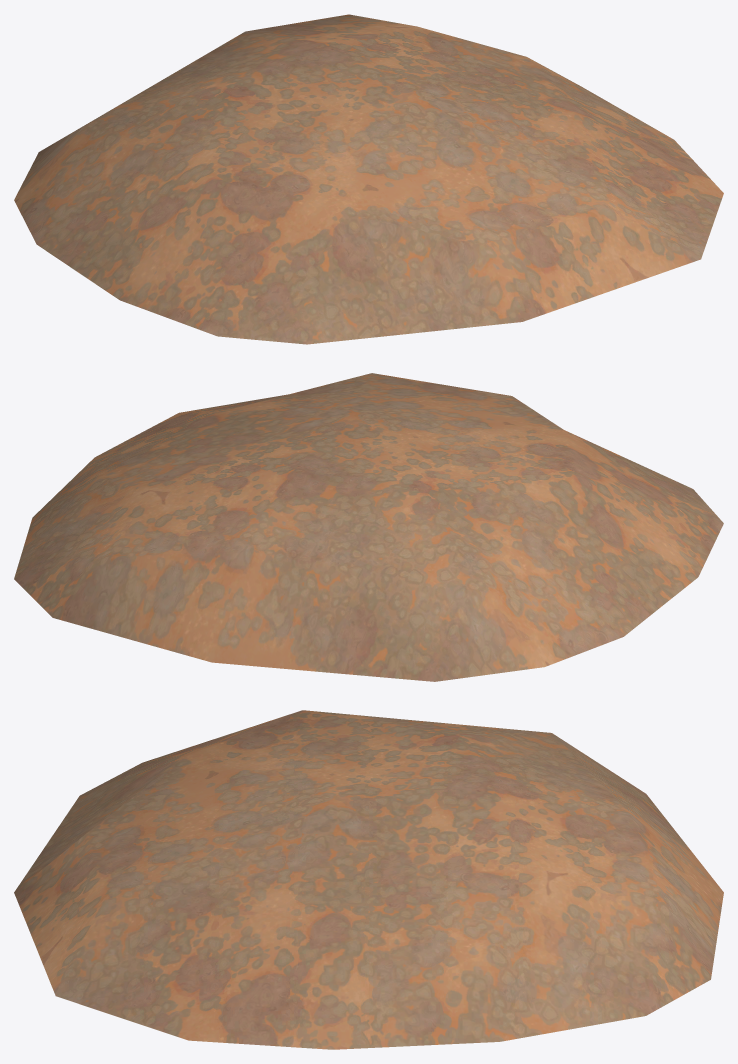
The model's file is Prfb_Groundpile3.fbx.
The picture shows the model from 3 angles, top to bottom: view 1: azimuth 30°, elevation 25°; view 2: azimuth 150°, elevation 25°; view 3: azimuth 270°, elevation 25°; orthographic projection. The views are drawn at different scales.
Visible parts, largest first — view 1: Mat_Tile_Stones_01; view 2: Mat_Tile_Stones_01; view 3: Mat_Tile_Stones_01.
Boxes of the visible parts, box(x1,y1,x2,y2) form: Mat_Tile_Stones_01: box(14, 14, 723, 344); Mat_Tile_Stones_01: box(14, 373, 723, 681); Mat_Tile_Stones_01: box(14, 710, 723, 1049).
Bounding box in the file's own units: 5.37 × 0.9513 × 5.26.
Materials: 1 (1 with a texture image).
